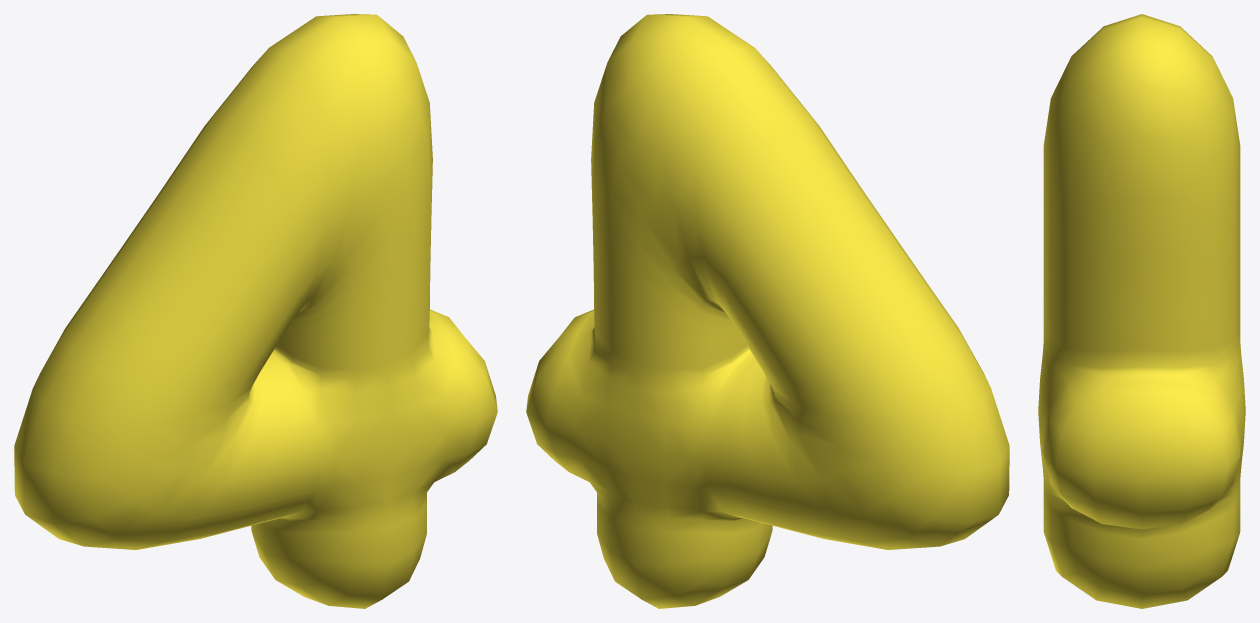
The picture shows the model from 3 angles, left to right: view 1: azimuth 30°, elevation 25°; view 2: azimuth 150°, elevation 25°; view 3: azimuth 270°, elevation 25°; orthographic projection.
Visible parts, largest first — view 1: 4_wire_115115115_0; view 2: 4_wire_115115115_0; view 3: 4_wire_115115115_0.
Part boxes in pixels (bbox=[...]): 4_wire_115115115_0: bbox=[14, 14, 497, 608]; 4_wire_115115115_0: bbox=[526, 14, 1009, 608]; 4_wire_115115115_0: bbox=[1038, 14, 1245, 608].
Size of the model in its own units: 41.1 by 50.4 by 16.27.
